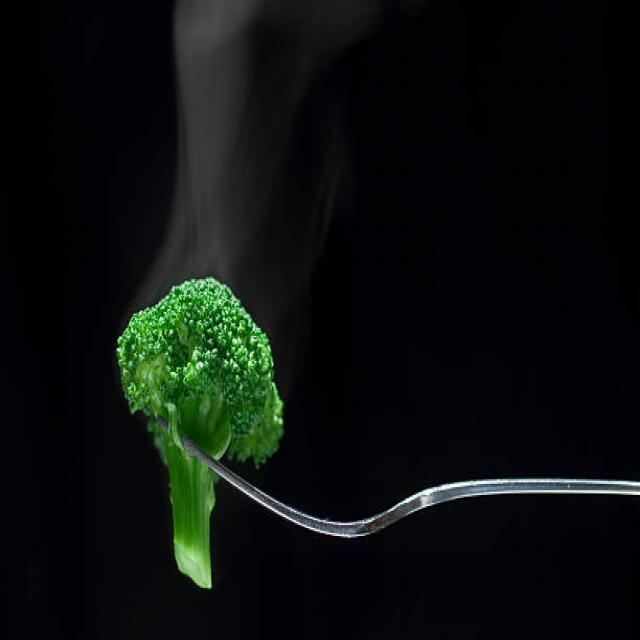broccoli: (94, 274, 312, 425)
